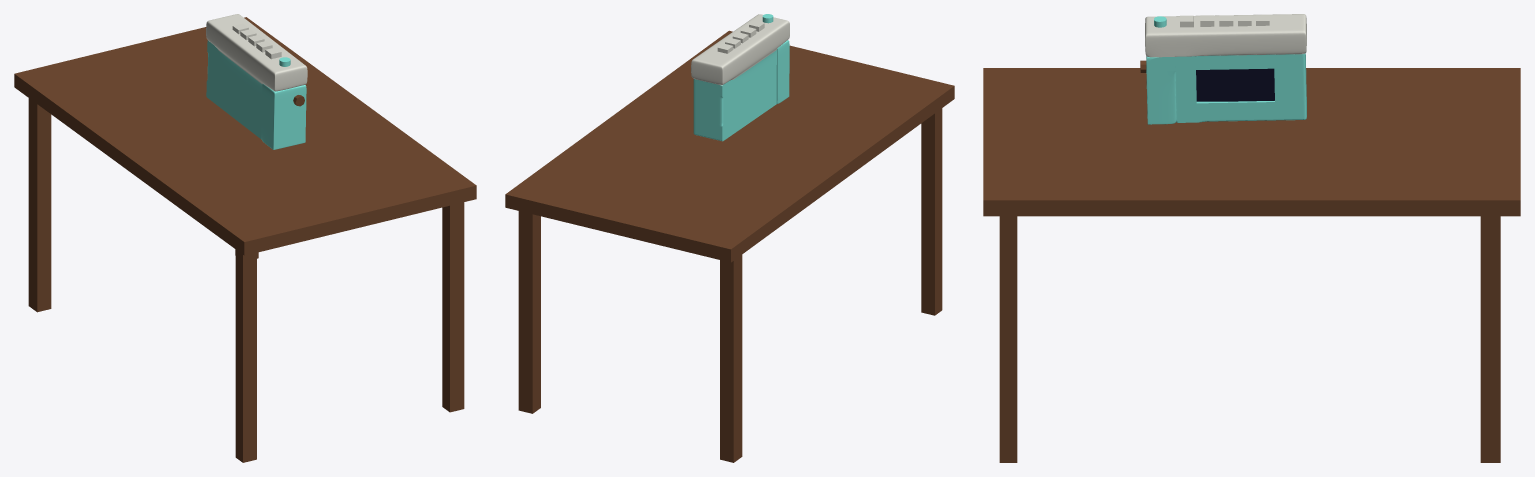
The model's file is mesa.fbx.
3 views of the same model, side by side, from view 1: azimuth 30°, elevation 25°; view 2: azimuth 150°, elevation 25°; view 3: azimuth 270°, elevation 25° (orthographic). The views are drawn at different scales.
Visible parts, largest first — view 1: Cube, cuerpo; view 2: Cube, cuerpo; view 3: Cube, cuerpo, pantalla.
Part boxes in pixels (x1=…): Cube: x1=14, y1=17, x2=476, y2=462; cuerpo: x1=206, y1=14, x2=307, y2=149; Cube: x1=505, y1=30, x2=954, y2=462; cuerpo: x1=691, y1=14, x2=789, y2=141; Cube: x1=983, y1=68, x2=1520, y2=462; cuerpo: x1=1145, y1=14, x2=1306, y2=124; pantalla: x1=1196, y1=68, x2=1274, y2=101.
Bounding box in the file's own units: 1053 × 1416 × 1807.
